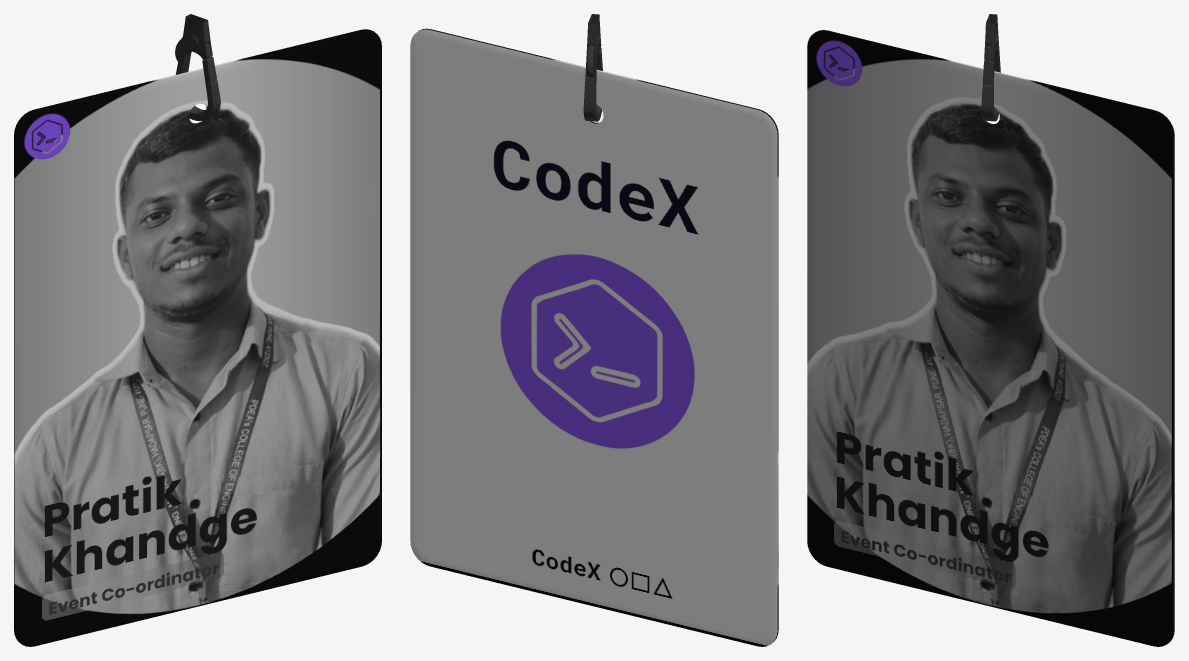
File: pratik.glb
The picture shows the model from 3 angles, left to right: view 1: azimuth 30°, elevation 25°; view 2: azimuth 150°, elevation 25°; view 3: azimuth 330°, elevation 25°; orthographic projection.
Visible parts, largest first — view 1: card, clamp; view 2: card, clamp; view 3: card, clamp.
Boxes of the visible parts, x1,y1,x2,y2 form: card: (14,29,381,646); clamp: (175,14,220,120); card: (410,28,778,646); clamp: (583,14,602,121); card: (807,30,1174,646); clamp: (981,14,1000,121).
Size of the model in its own units: 0.7164 by 1.1 by 0.0903.
Materials: 2 (1 with a texture image).
